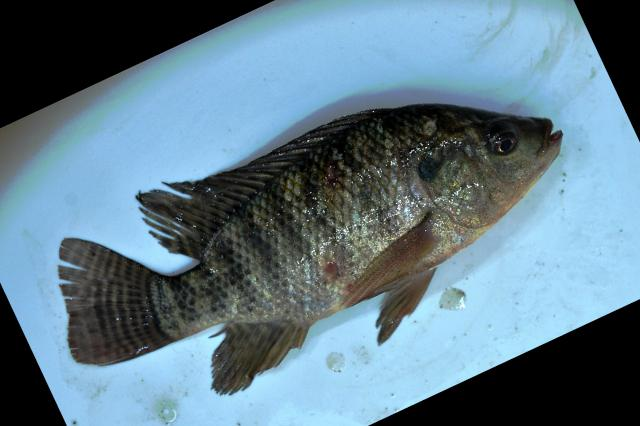Columnaris Disease: (57, 103, 561, 394)
